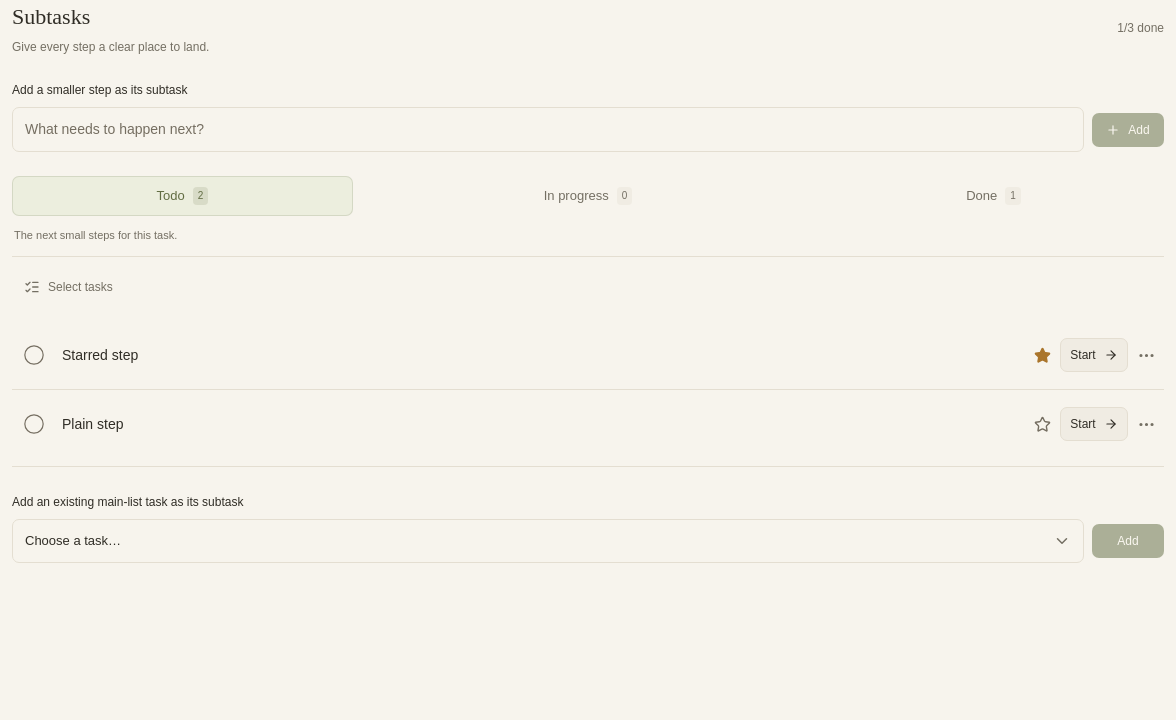
keeps subtask counts and sorted status rows scoped to the current parent
This screenshot has width=1176, height=720.
Expected: the tab "Todo 2" is shown, top-left (12, 176), bottom-right (353, 216)
Expected: the text "1/3 done" is shown, top-left (1117, 19), bottom-right (1164, 37)
Click the tab "Done 1" at [994, 196], box top-left (823, 176), bottom-right (1164, 216)
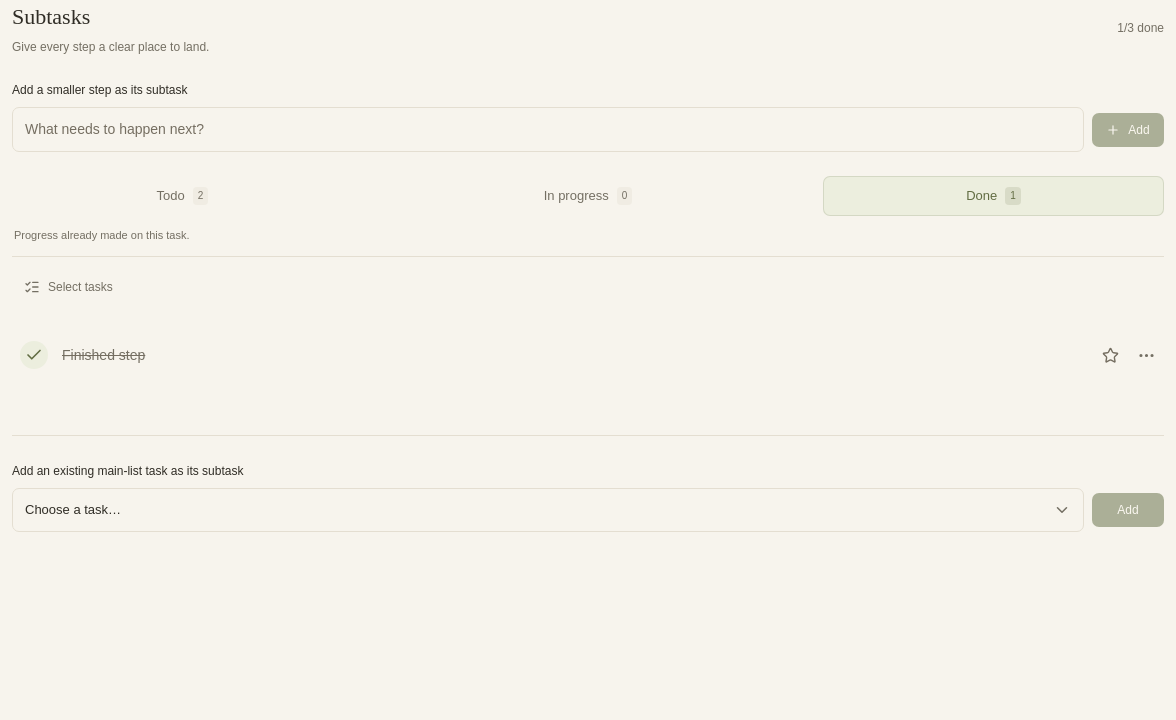
Expected: the number of list items is 1, top-left (12, 321), bottom-right (1164, 389)
Expected: the text "Finished step" is shown, top-left (62, 347), bottom-right (145, 363)
Click the tab "In progress 0" at [588, 196], box top-left (358, 176), bottom-right (818, 216)
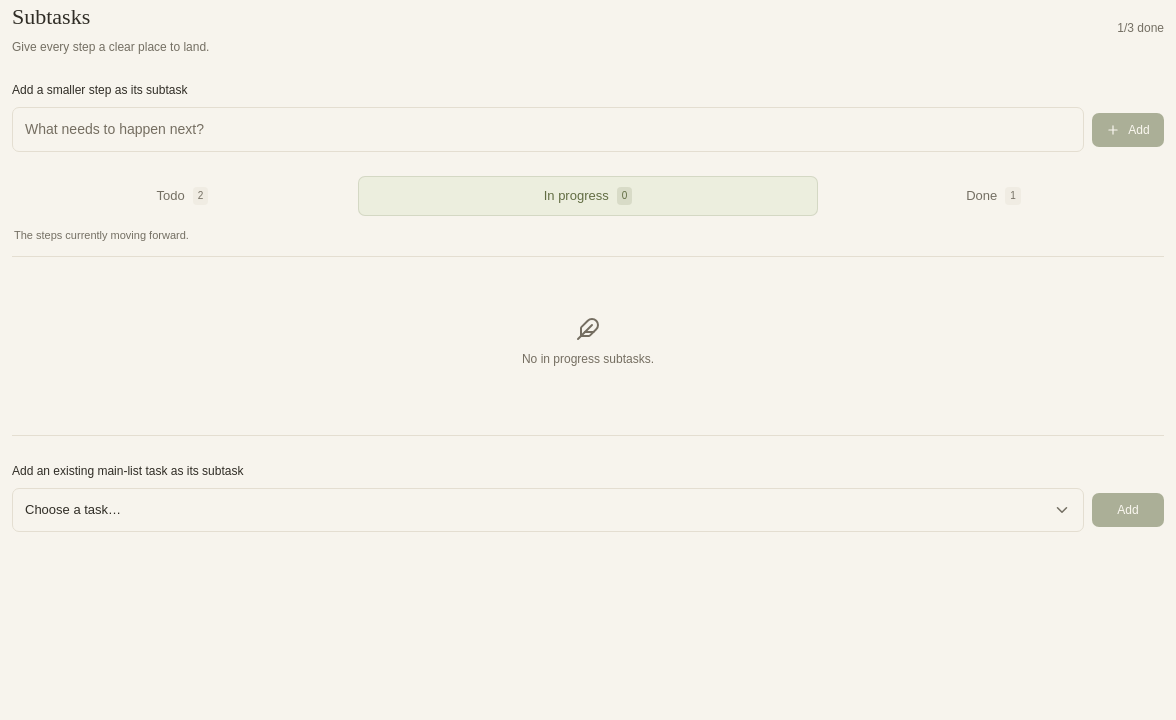
Expected: the text "No in progress subtasks." is shown, top-left (522, 350), bottom-right (654, 368)
